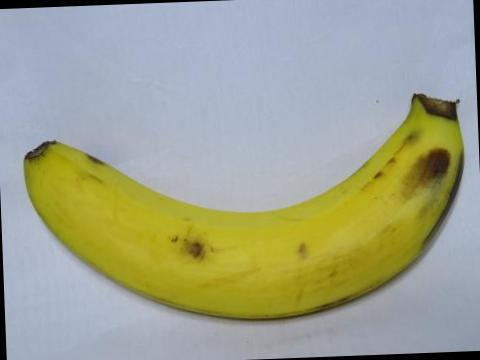freshripe: (12, 76, 469, 341)
